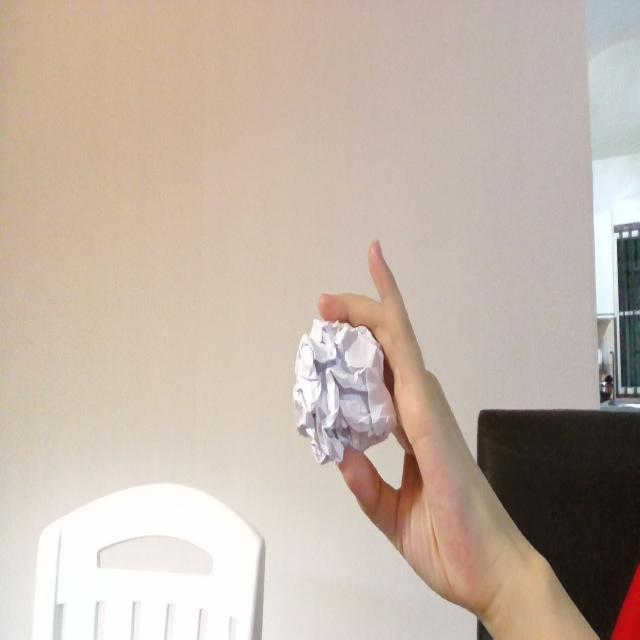crumpled_paper: (291, 314, 397, 469)
